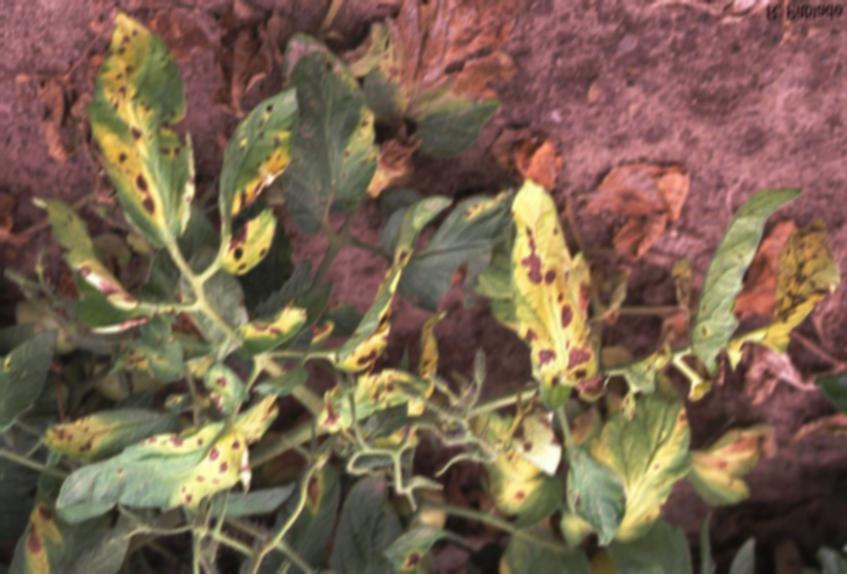Tomato Early blight leaf: (40, 404, 286, 525), (510, 184, 617, 407), (104, 36, 210, 245), (209, 86, 306, 272), (752, 206, 839, 355)
